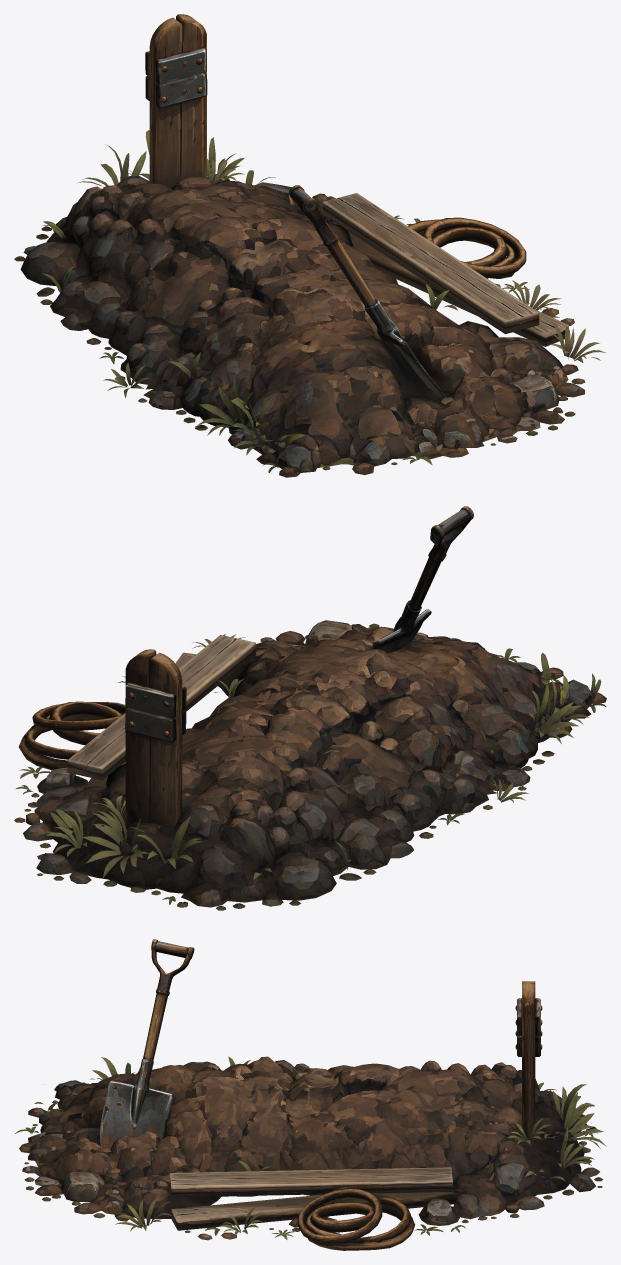
Rendered from act1-a16-4-fresh-grave.glb.
The picture shows the model from 3 angles, top to bottom: view 1: azimuth 30°, elevation 25°; view 2: azimuth 150°, elevation 25°; view 3: azimuth 270°, elevation 25°; orthographic projection. The views are drawn at different scales.
Parts seen in each view (by area): view 1: act1-a16-4-fresh-grave; view 2: act1-a16-4-fresh-grave; view 3: act1-a16-4-fresh-grave.
Part boxes in pixels (bbox=[...]): act1-a16-4-fresh-grave: bbox=[14, 14, 605, 477]; act1-a16-4-fresh-grave: bbox=[14, 506, 606, 910]; act1-a16-4-fresh-grave: bbox=[15, 939, 606, 1250].
Bounding box in the file's own units: 1.77 × 0.8242 × 2.4.
1 material, 1 textured.
